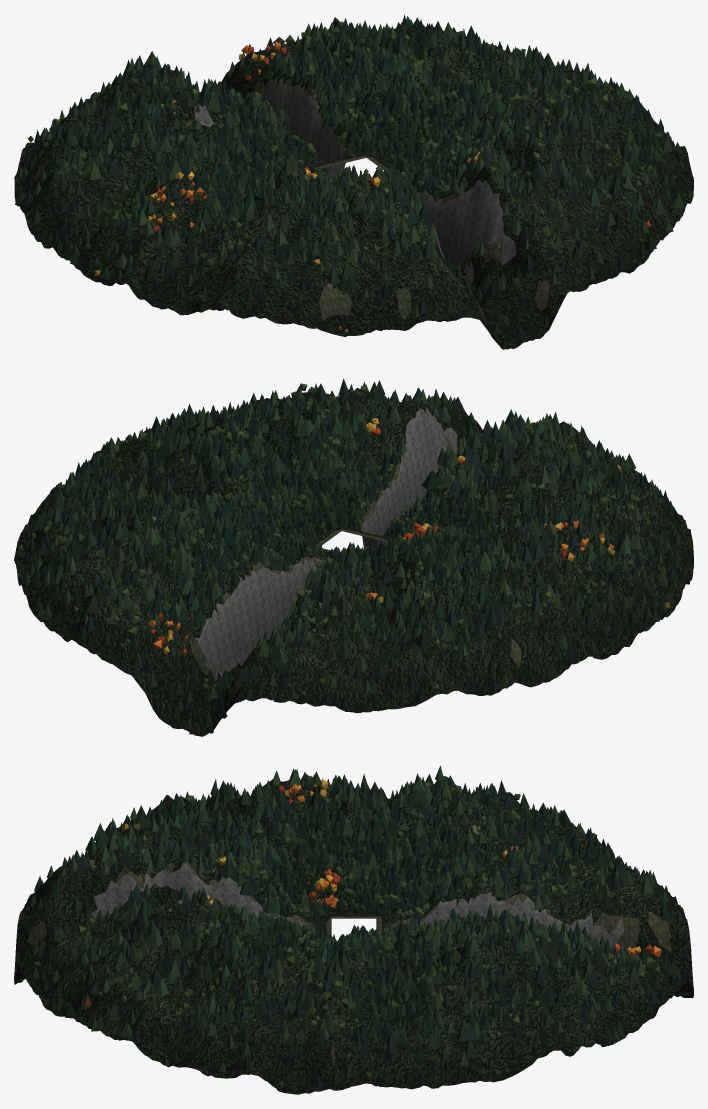
File: backdrop_near_rect_bluffs_summer.glb
The picture shows the model from 3 angles, top to bottom: view 1: azimuth 30°, elevation 25°; view 2: azimuth 150°, elevation 25°; view 3: azimuth 270°, elevation 25°; orthographic projection.
Visible parts, largest first — view 1: near_land_S, trees_land_W_0, near_land_W, trees_land_S_0, trees_land_E_0, trees_land_N_0, near_land_E, near_land_N; view 2: near_land_N, trees_land_N_0, near_land_W, trees_land_W_0, trees_land_E_0, trees_land_S_0, near_land_S, near_land_E; view 3: near_land_E, trees_land_E_0, trees_land_W_0, near_land_S, trees_land_N_0, trees_land_S_0, near_land_N, near_land_W.
Part boxes in pixels (<box>): near_land_S: <box>265,127,682,349</box>; trees_land_W_0: <box>14,90,325,308</box>; near_land_W: <box>14,101,317,318</box>; trees_land_S_0: <box>273,116,673,349</box>; trees_land_E_0: <box>369,19,692,207</box>; trees_land_N_0: <box>28,14,432,165</box>; near_land_E: <box>363,25,693,216</box>; near_land_N: <box>26,25,434,177</box>; near_land_N: <box>26,512,441,736</box>; trees_land_N_0: <box>35,500,442,734</box>; near_land_W: <box>391,463,693,695</box>; trees_land_W_0: <box>383,452,684,691</box>; trees_land_E_0: <box>16,390,344,585</box>; trees_land_S_0: <box>274,378,674,539</box>; near_land_S: <box>276,388,677,548</box>; near_land_E: <box>14,398,346,594</box>; near_land_E: <box>114,915,594,1094</box>; trees_land_E_0: <box>120,911,585,1090</box>; trees_land_W_0: <box>136,765,562,915</box>; near_land_S: <box>14,816,330,1039</box>; trees_land_N_0: <box>385,809,692,1041</box>; trees_land_S_0: <box>14,807,321,1031</box>; near_land_N: <box>381,819,693,1047</box>; near_land_W: <box>141,776,560,919</box>.
Size of the model in its own units: 577 by 177 by 576.
Materials: 4 (3 with a texture image).
